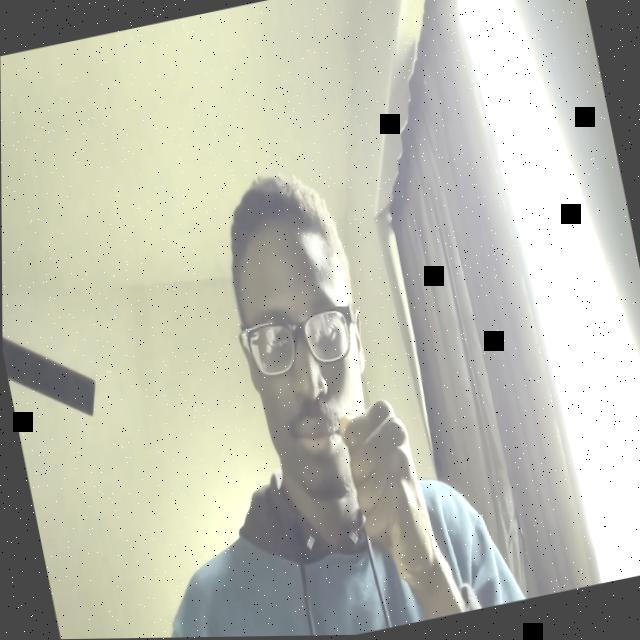Rock: (333, 398, 446, 609)
